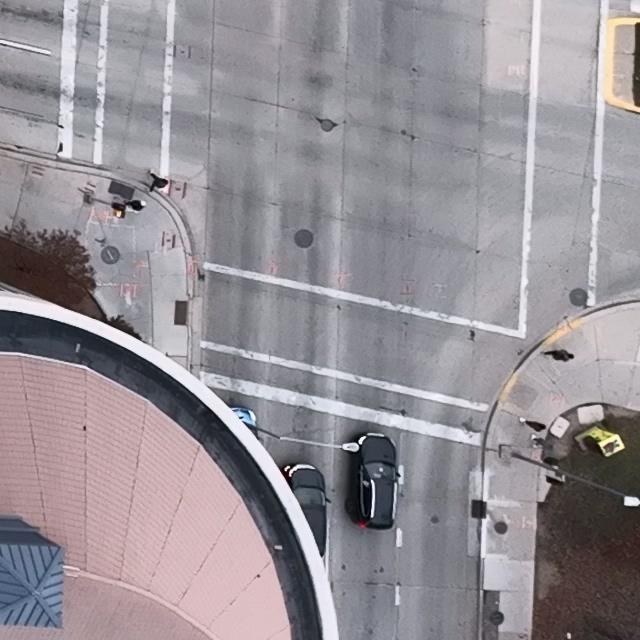car: (343, 431, 401, 530), (282, 462, 331, 557)
